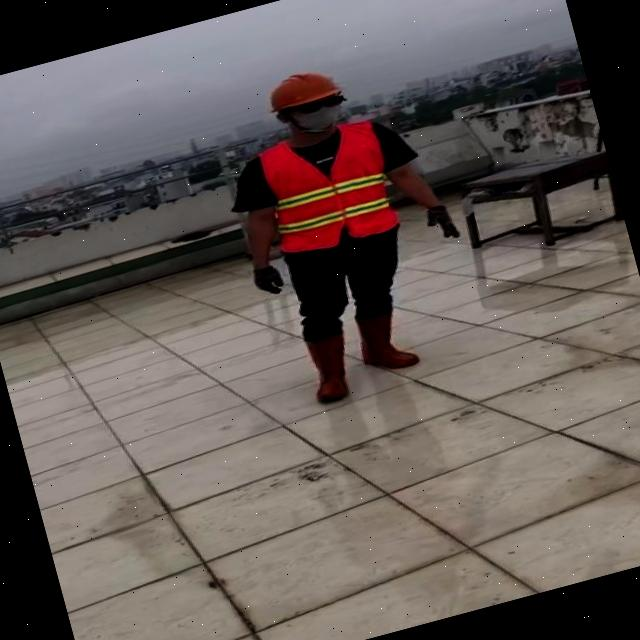boots: (352, 304, 424, 376), (299, 328, 362, 406)
helmet: (266, 61, 348, 116)
vest: (252, 118, 402, 260)
